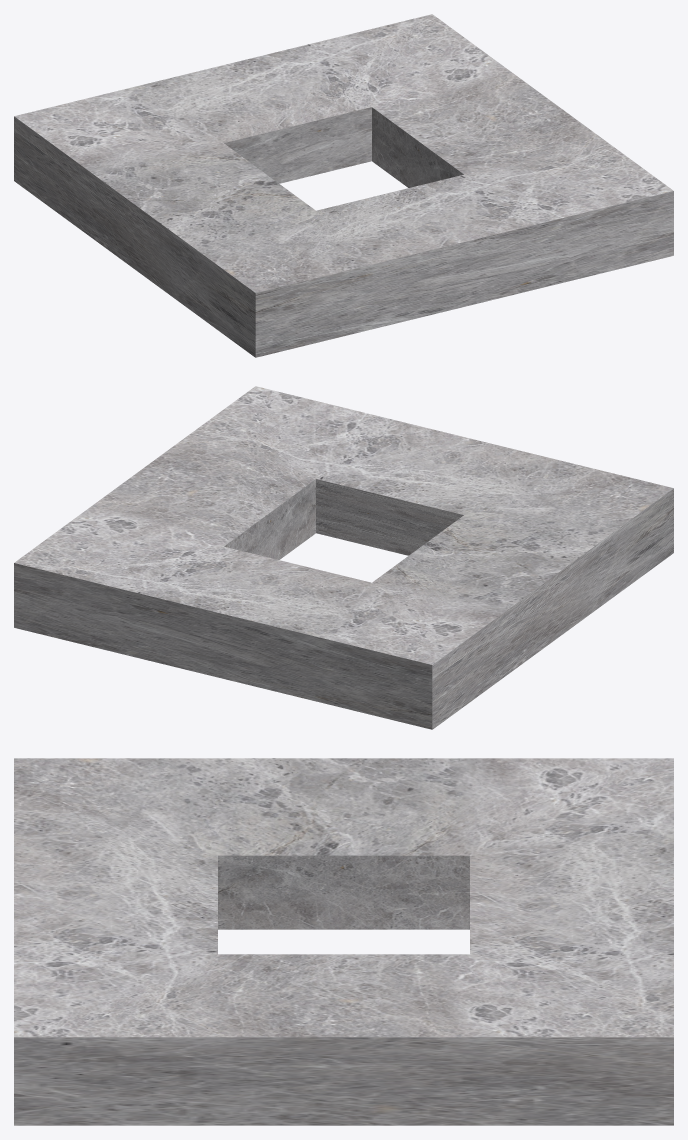
File: Plat2.fbx
The picture shows the model from 3 angles, top to bottom: view 1: azimuth 30°, elevation 25°; view 2: azimuth 150°, elevation 25°; view 3: azimuth 270°, elevation 25°; orthographic projection. The views are drawn at different scales.
Parts seen in each view (by area): view 1: plat2; view 2: plat2; view 3: plat2.
Part boxes in pixels (<box>): plat2: <box>14,14,673,357</box>; plat2: <box>14,386,673,729</box>; plat2: <box>14,758,673,1125</box>.
Size of the model in its own units: 0.0395 by 0.00585 by 0.0395.
Materials: 1 (1 with a texture image).
